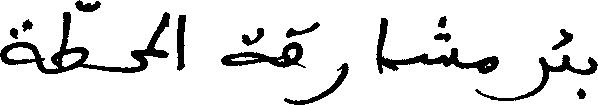X: (304, 17, 347, 104), (52, 0, 87, 78), (130, 7, 168, 77), (499, 52, 549, 104), (0, 14, 39, 74), (223, 23, 266, 70), (426, 11, 456, 71), (283, 23, 302, 104), (480, 51, 497, 104), (377, 13, 387, 78), (177, 10, 185, 75), (586, 52, 597, 79), (563, 24, 568, 75)
